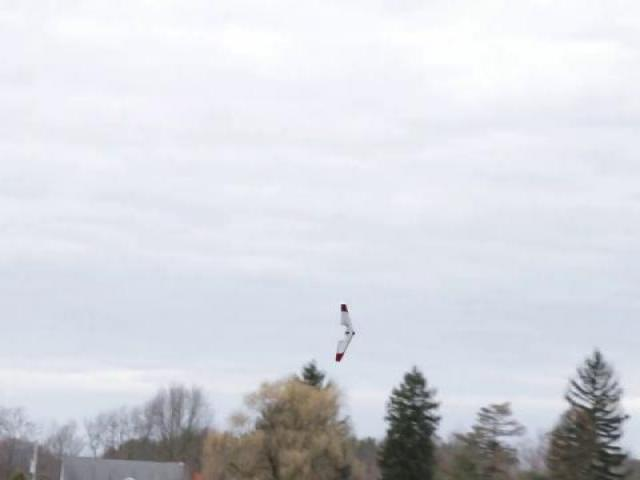flying wing: (335, 304, 356, 362)
